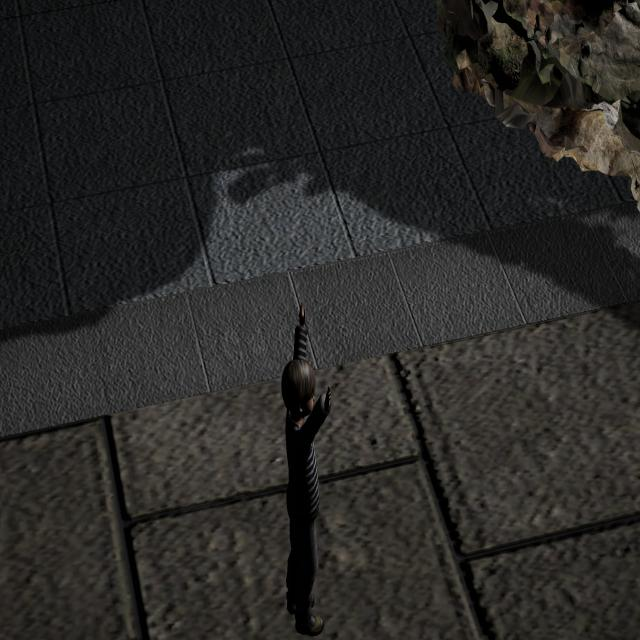Human: (277, 307, 334, 638)
